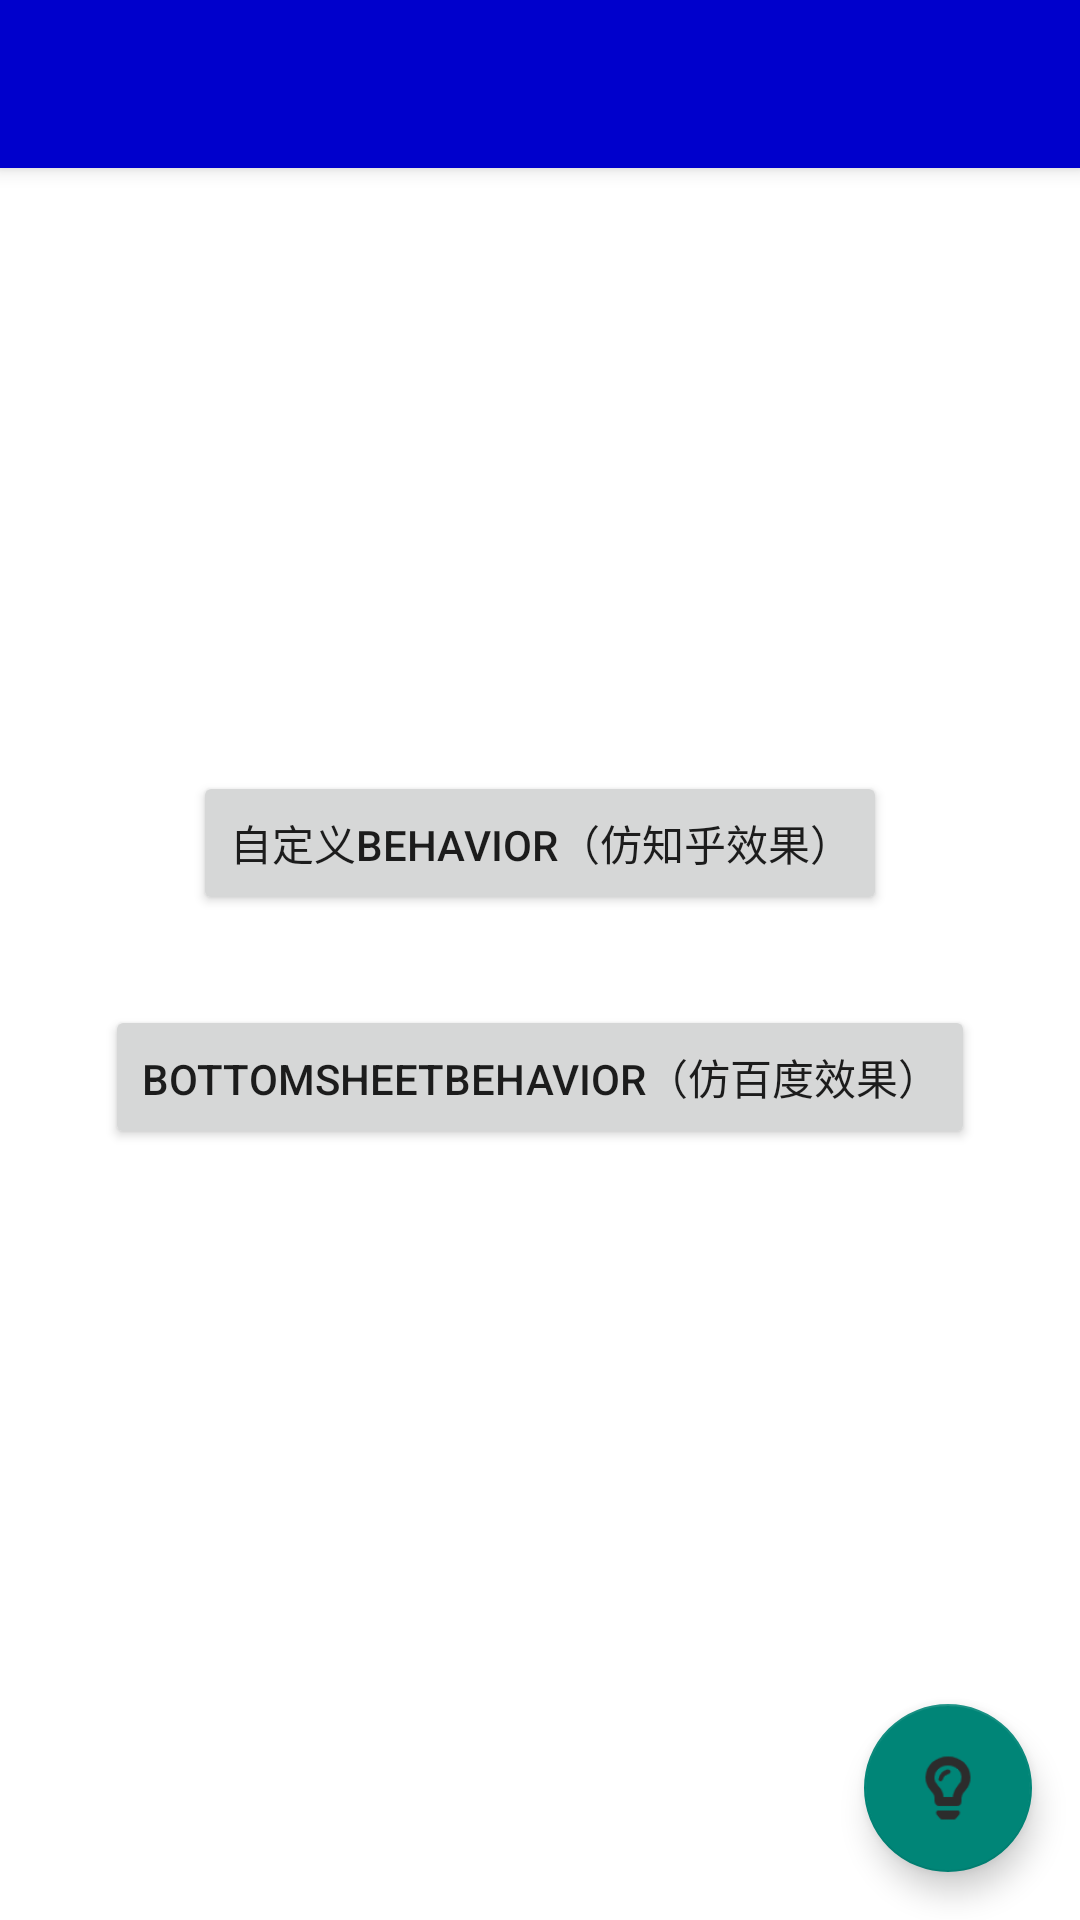

Where icons sit on this 1080px x 1920px app screen, as (x1, y1, x2, y2):
bulb: (864, 1704, 1032, 1872)
